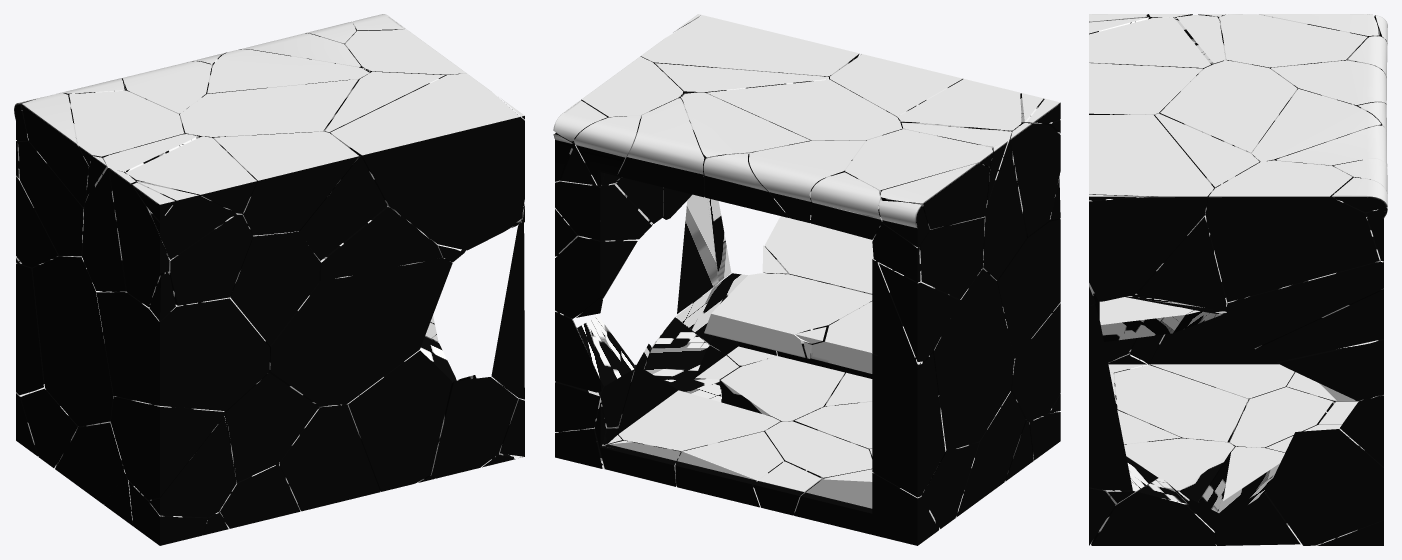
File: Bathroom_Bottom_Round.fbx
The picture shows the model from 3 angles, left to right: view 1: azimuth 30°, elevation 25°; view 2: azimuth 150°, elevation 25°; view 3: azimuth 270°, elevation 25°; orthographic projection. The views are drawn at different scales.
Parts seen in each view (by area): view 1: Bathroom_Bottom_Round_cell.044, Bathroom_Bottom_Round_cell.028, Bathroom_Bottom_Round_cell.018, Bathroom_Bottom_Round_cell.006, Bathroom_Bottom_Round_cell.027, Bathroom_Bottom_Round_cell.007, Bathroom_Bottom_Round_cell.010, Bathroom_Bottom_Round_cell.019, Bathroom_Bottom_Round_cell.002, Bathroom_Bottom_Round_cell.013, Bathroom_Bottom_Round_cell.003, Bathroom_Bottom_Round_cell.072 (+31 smaller); view 2: Bathroom_Bottom_Round_cell.006, Bathroom_Bottom_Round_cell.020, Bathroom_Bottom_Round_cell.086, Bathroom_Bottom_Round_cell.044, Bathroom_Bottom_Round_cell.040, Bathroom_Bottom_Round_cell.010, Bathroom_Bottom_Round_cell.035, Bathroom_Bottom_Round_cell.027, Bathroom_Bottom_Round_cell.028, Bathroom_Bottom_Round_cell.078, Bathroom_Bottom_Round_cell.018, Bathroom_Bottom_Round_cell.076 (+41 smaller); view 3: Bathroom_Bottom_Round_cell.074, Bathroom_Bottom_Round_cell.044, Bathroom_Bottom_Round_cell.057, Bathroom_Bottom_Round_cell.064, Bathroom_Bottom_Round_cell.010, Bathroom_Bottom_Round_cell.030, Bathroom_Bottom_Round_cell.061, Bathroom_Bottom_Round_cell.065, Bathroom_Bottom_Round_cell.040, Bathroom_Bottom_Round_cell.076, Bathroom_Bottom_Round_cell.068, Bathroom_Bottom_Round_cell.082 (+29 smaller).
Boxes of the visible parts, x1=… form: Bathroom_Bottom_Round_cell.044: x1=330, y1=73, x2=524, y2=250; Bathroom_Bottom_Round_cell.028: x1=199, y1=258, x2=452, y2=406; Bathroom_Bottom_Round_cell.018: x1=96, y1=292, x2=269, y2=410; Bathroom_Bottom_Round_cell.006: x1=32, y1=256, x2=144, y2=426; Bathroom_Bottom_Round_cell.027: x1=346, y1=350, x2=451, y2=491; Bathroom_Bottom_Round_cell.007: x1=213, y1=131, x2=359, y2=235; Bathroom_Bottom_Round_cell.010: x1=180, y1=79, x2=357, y2=137; Bathroom_Bottom_Round_cell.019: x1=110, y1=396, x2=225, y2=500; Bathroom_Bottom_Round_cell.002: x1=279, y1=404, x2=380, y2=511; Bathroom_Bottom_Round_cell.013: x1=230, y1=231, x2=319, y2=345; Bathroom_Bottom_Round_cell.003: x1=224, y1=373, x2=318, y2=482; Bathroom_Bottom_Round_cell.072: x1=430, y1=377, x2=517, y2=478; Bathroom_Bottom_Round_cell.006: x1=934, y1=268, x2=1014, y2=451; Bathroom_Bottom_Round_cell.020: x1=872, y1=353, x2=945, y2=497; Bathroom_Bottom_Round_cell.086: x1=704, y1=273, x2=872, y2=357; Bathroom_Bottom_Round_cell.044: x1=640, y1=15, x2=859, y2=78; Bathroom_Bottom_Round_cell.040: x1=612, y1=364, x2=780, y2=452; Bathroom_Bottom_Round_cell.010: x1=706, y1=79, x2=902, y2=140; Bathroom_Bottom_Round_cell.035: x1=794, y1=469, x2=939, y2=545; Bathroom_Bottom_Round_cell.027: x1=720, y1=351, x2=847, y2=421; Bathroom_Bottom_Round_cell.028: x1=764, y1=216, x2=873, y2=294; Bathroom_Bottom_Round_cell.078: x1=617, y1=98, x2=706, y2=197; Bathroom_Bottom_Round_cell.018: x1=997, y1=218, x2=1060, y2=358; Bathroom_Bottom_Round_cell.076: x1=845, y1=129, x2=992, y2=192; Bathroom_Bottom_Round_cell.074: x1=1205, y1=160, x2=1380, y2=302; Bathroom_Bottom_Round_cell.044: x1=1089, y1=114, x2=1214, y2=302; Bathroom_Bottom_Round_cell.057: x1=1266, y1=429, x2=1383, y2=545; Bathroom_Bottom_Round_cell.064: x1=1125, y1=113, x2=1259, y2=315; Bathroom_Bottom_Round_cell.010: x1=1160, y1=60, x2=1297, y2=154; Bathroom_Bottom_Round_cell.030: x1=1114, y1=334, x2=1248, y2=442; Bathroom_Bottom_Round_cell.061: x1=1149, y1=315, x2=1295, y2=420; Bathroom_Bottom_Round_cell.065: x1=1226, y1=260, x2=1383, y2=349; Bathroom_Bottom_Round_cell.040: x1=1199, y1=446, x2=1301, y2=545; Bathroom_Bottom_Round_cell.076: x1=1220, y1=14, x2=1367, y2=68; Bathroom_Bottom_Round_cell.068: x1=1090, y1=479, x2=1215, y2=545; Bathroom_Bottom_Round_cell.082: x1=1089, y1=304, x2=1132, y2=490.
Size of the model in its own units: 87.79 by 78.42 by 60.75.
